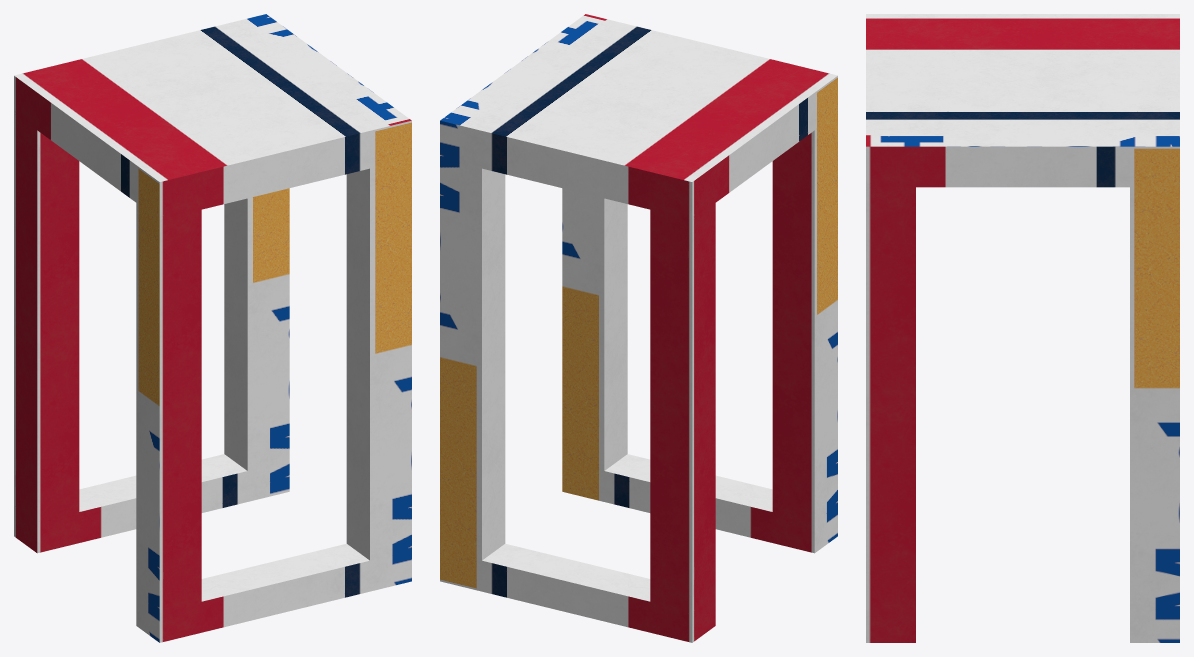
The model's file is Small_Table.fbx.
3 views of the same model, side by side, from view 1: azimuth 30°, elevation 25°; view 2: azimuth 150°, elevation 25°; view 3: azimuth 270°, elevation 25° (orthographic). The views are drawn at different scales.
Visible parts, largest first — view 1: Small_Table; view 2: Small_Table; view 3: Small_Table.
Part boxes in pixels (x1=…): Small_Table: x1=14, y1=14, x2=411, y2=642; Small_Table: x1=440, y1=14, x2=837, y2=642; Small_Table: x1=866, y1=14, x2=1179, y2=642.
Bounding box in the file's own units: 60.39 × 105 × 60.39.
